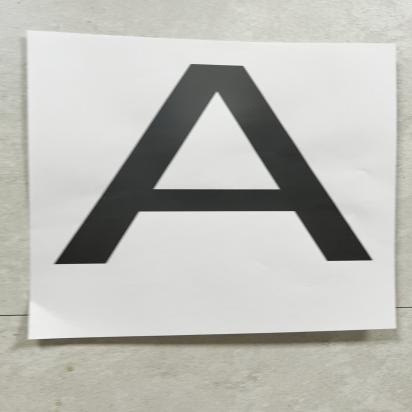seat: (41, 53, 387, 275)
